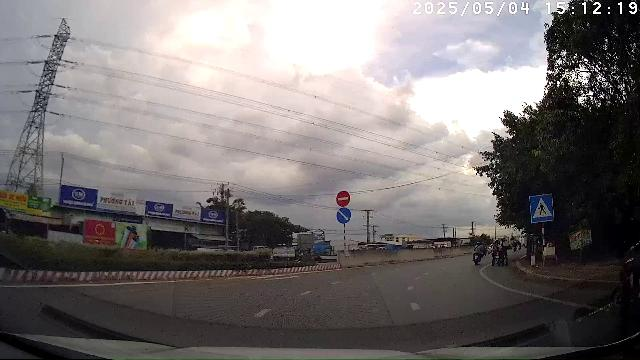102-cam-di-nguoc-chieu: (336, 189, 351, 207)
302a-huong-phai-di-vong-chuong-ngai-vat-1: (336, 207, 351, 224)
423a-duong-nguoi-di-bo-sang-ngang-1: (529, 194, 554, 221)
